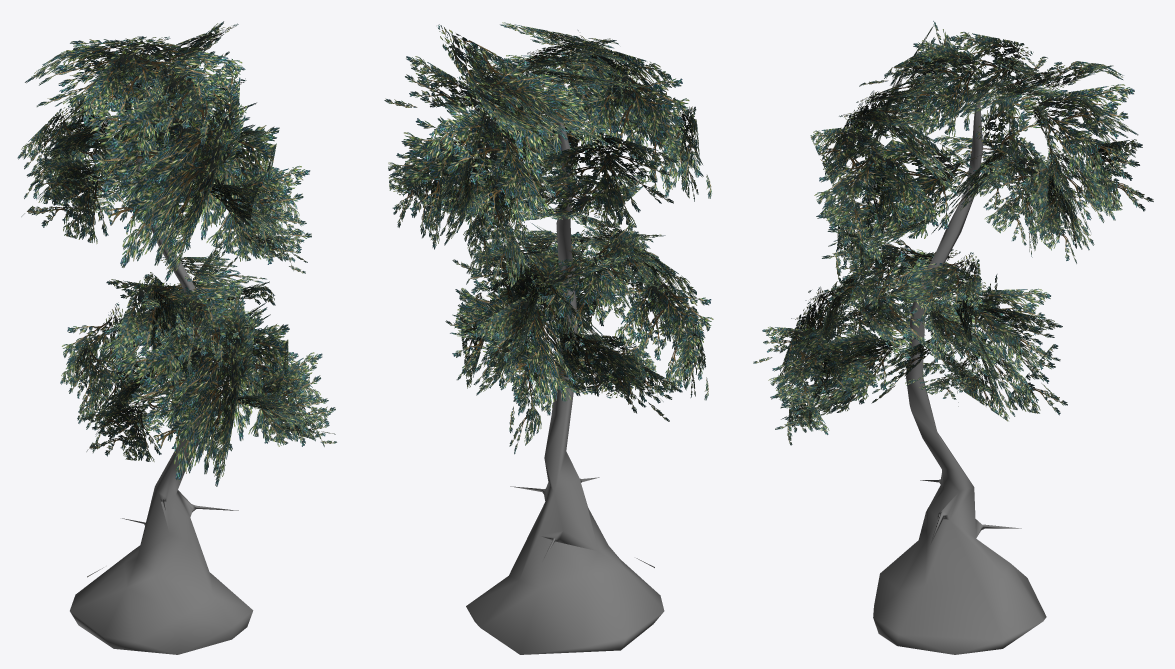
File: svamptree_lod2.fbx
The picture shows the model from 3 angles, left to right: view 1: azimuth 30°, elevation 25°; view 2: azimuth 150°, elevation 25°; view 3: azimuth 270°, elevation 25°; orthographic projection. The views are drawn at different scales.
Visible parts, largest first — view 1: Default_Layer; view 2: Default_Layer; view 3: Default_Layer.
Part boxes in pixels (x1,y1,x2,y2): Default_Layer: (17,21,336,654); Default_Layer: (384,22,713,654); Default_Layer: (753,21,1153,654).
Size of the model in its own units: 624 by 1213 by 781.
